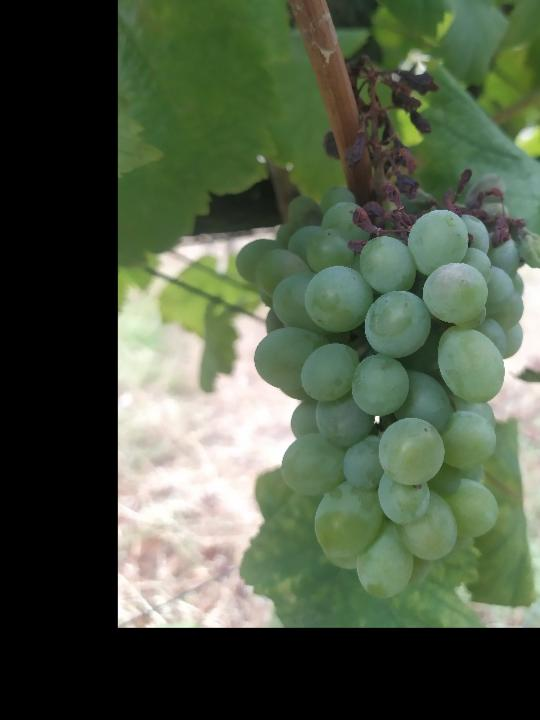grape: (231, 51, 540, 602)
